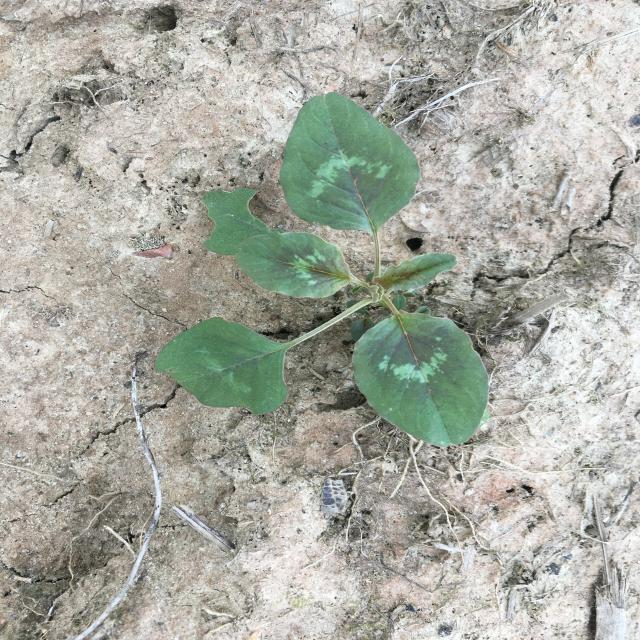PalmerAmaranth: (154, 91, 489, 448)
